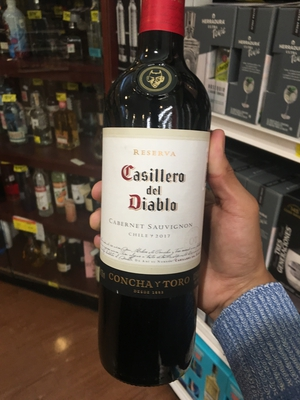casillero del diablo cabernet sauvignon: (89, 9, 211, 400)
